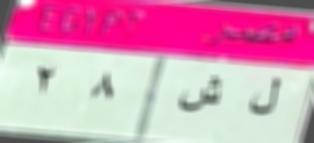2: (31, 61, 65, 96)
8: (85, 69, 124, 104)
laam: (244, 73, 290, 120)
sheen: (178, 75, 232, 115)
